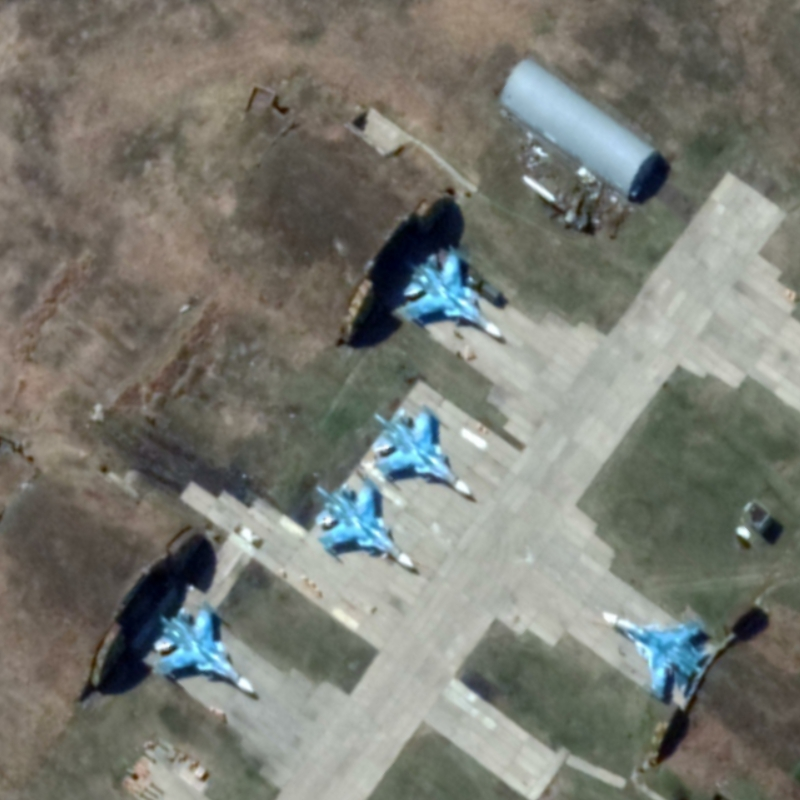A19: (393, 242, 504, 340), (600, 609, 712, 702), (150, 600, 257, 695), (371, 402, 474, 497), (312, 477, 416, 569)
